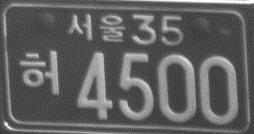0: (197, 55, 239, 127), (157, 52, 198, 124)
3: (129, 13, 157, 47)
4: (75, 50, 113, 119)
5: (116, 52, 155, 121), (159, 14, 184, 46)
서울_O: (65, 13, 125, 44)
허: (19, 49, 60, 96)
